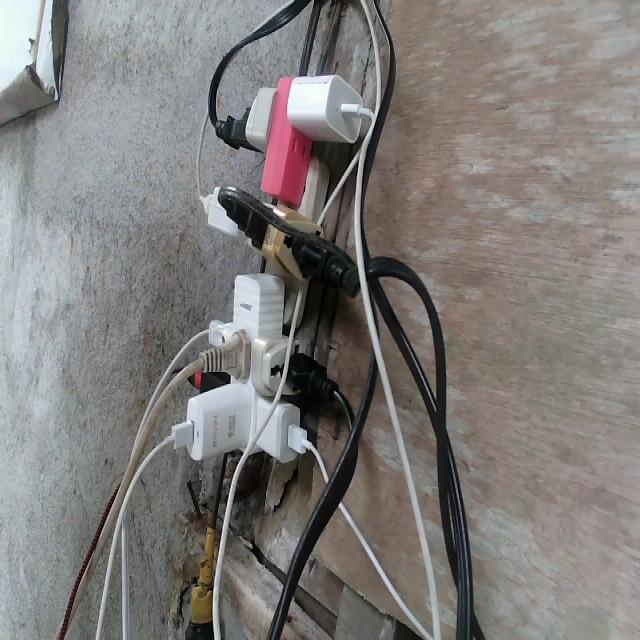-: (168, 72, 373, 463)
